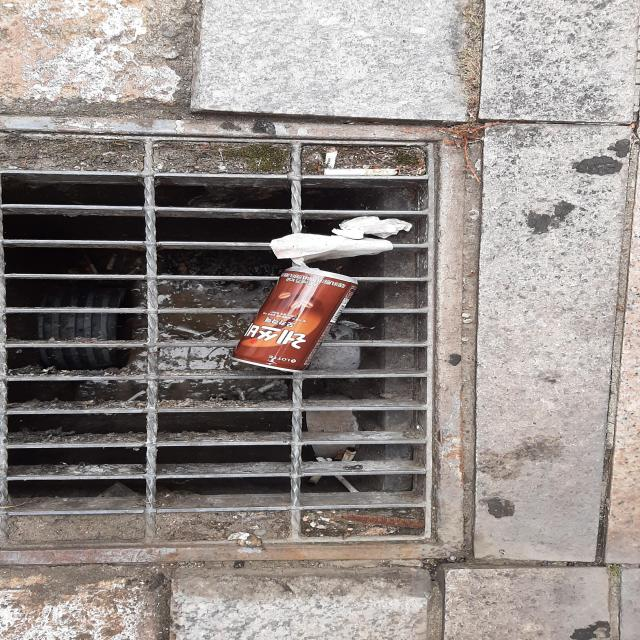litter: (222, 266, 359, 375), (267, 233, 393, 260), (329, 220, 411, 233)
